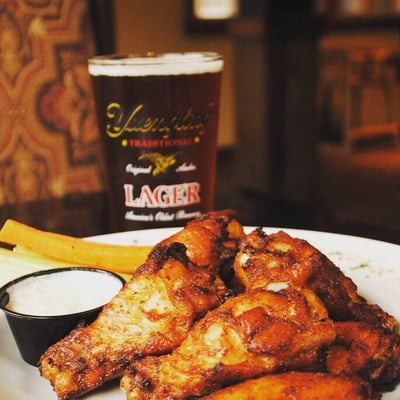pizza: (87, 51, 224, 232)
sushi: (0, 266, 131, 368)
